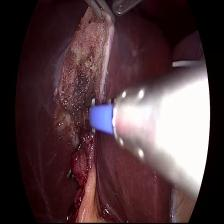Bipolar: (86, 86, 160, 164)
Grasper: (82, 1, 116, 33), (111, 0, 150, 20)
